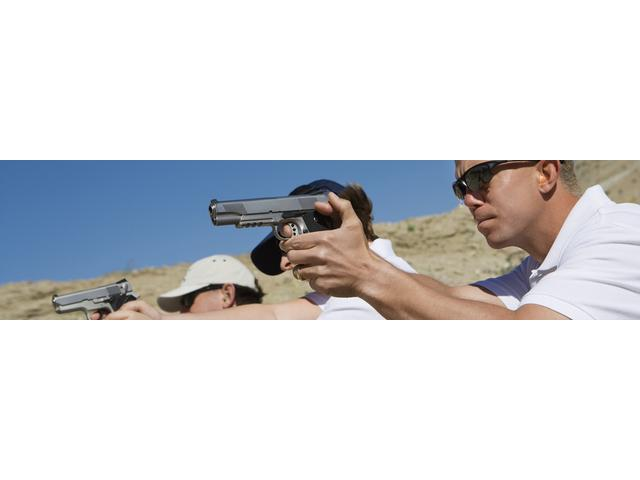pistol: (205, 189, 352, 302), (51, 279, 142, 322)
